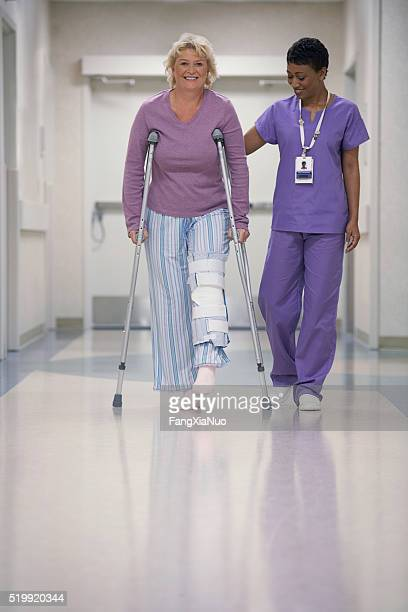crutches: (109, 29, 272, 414)
